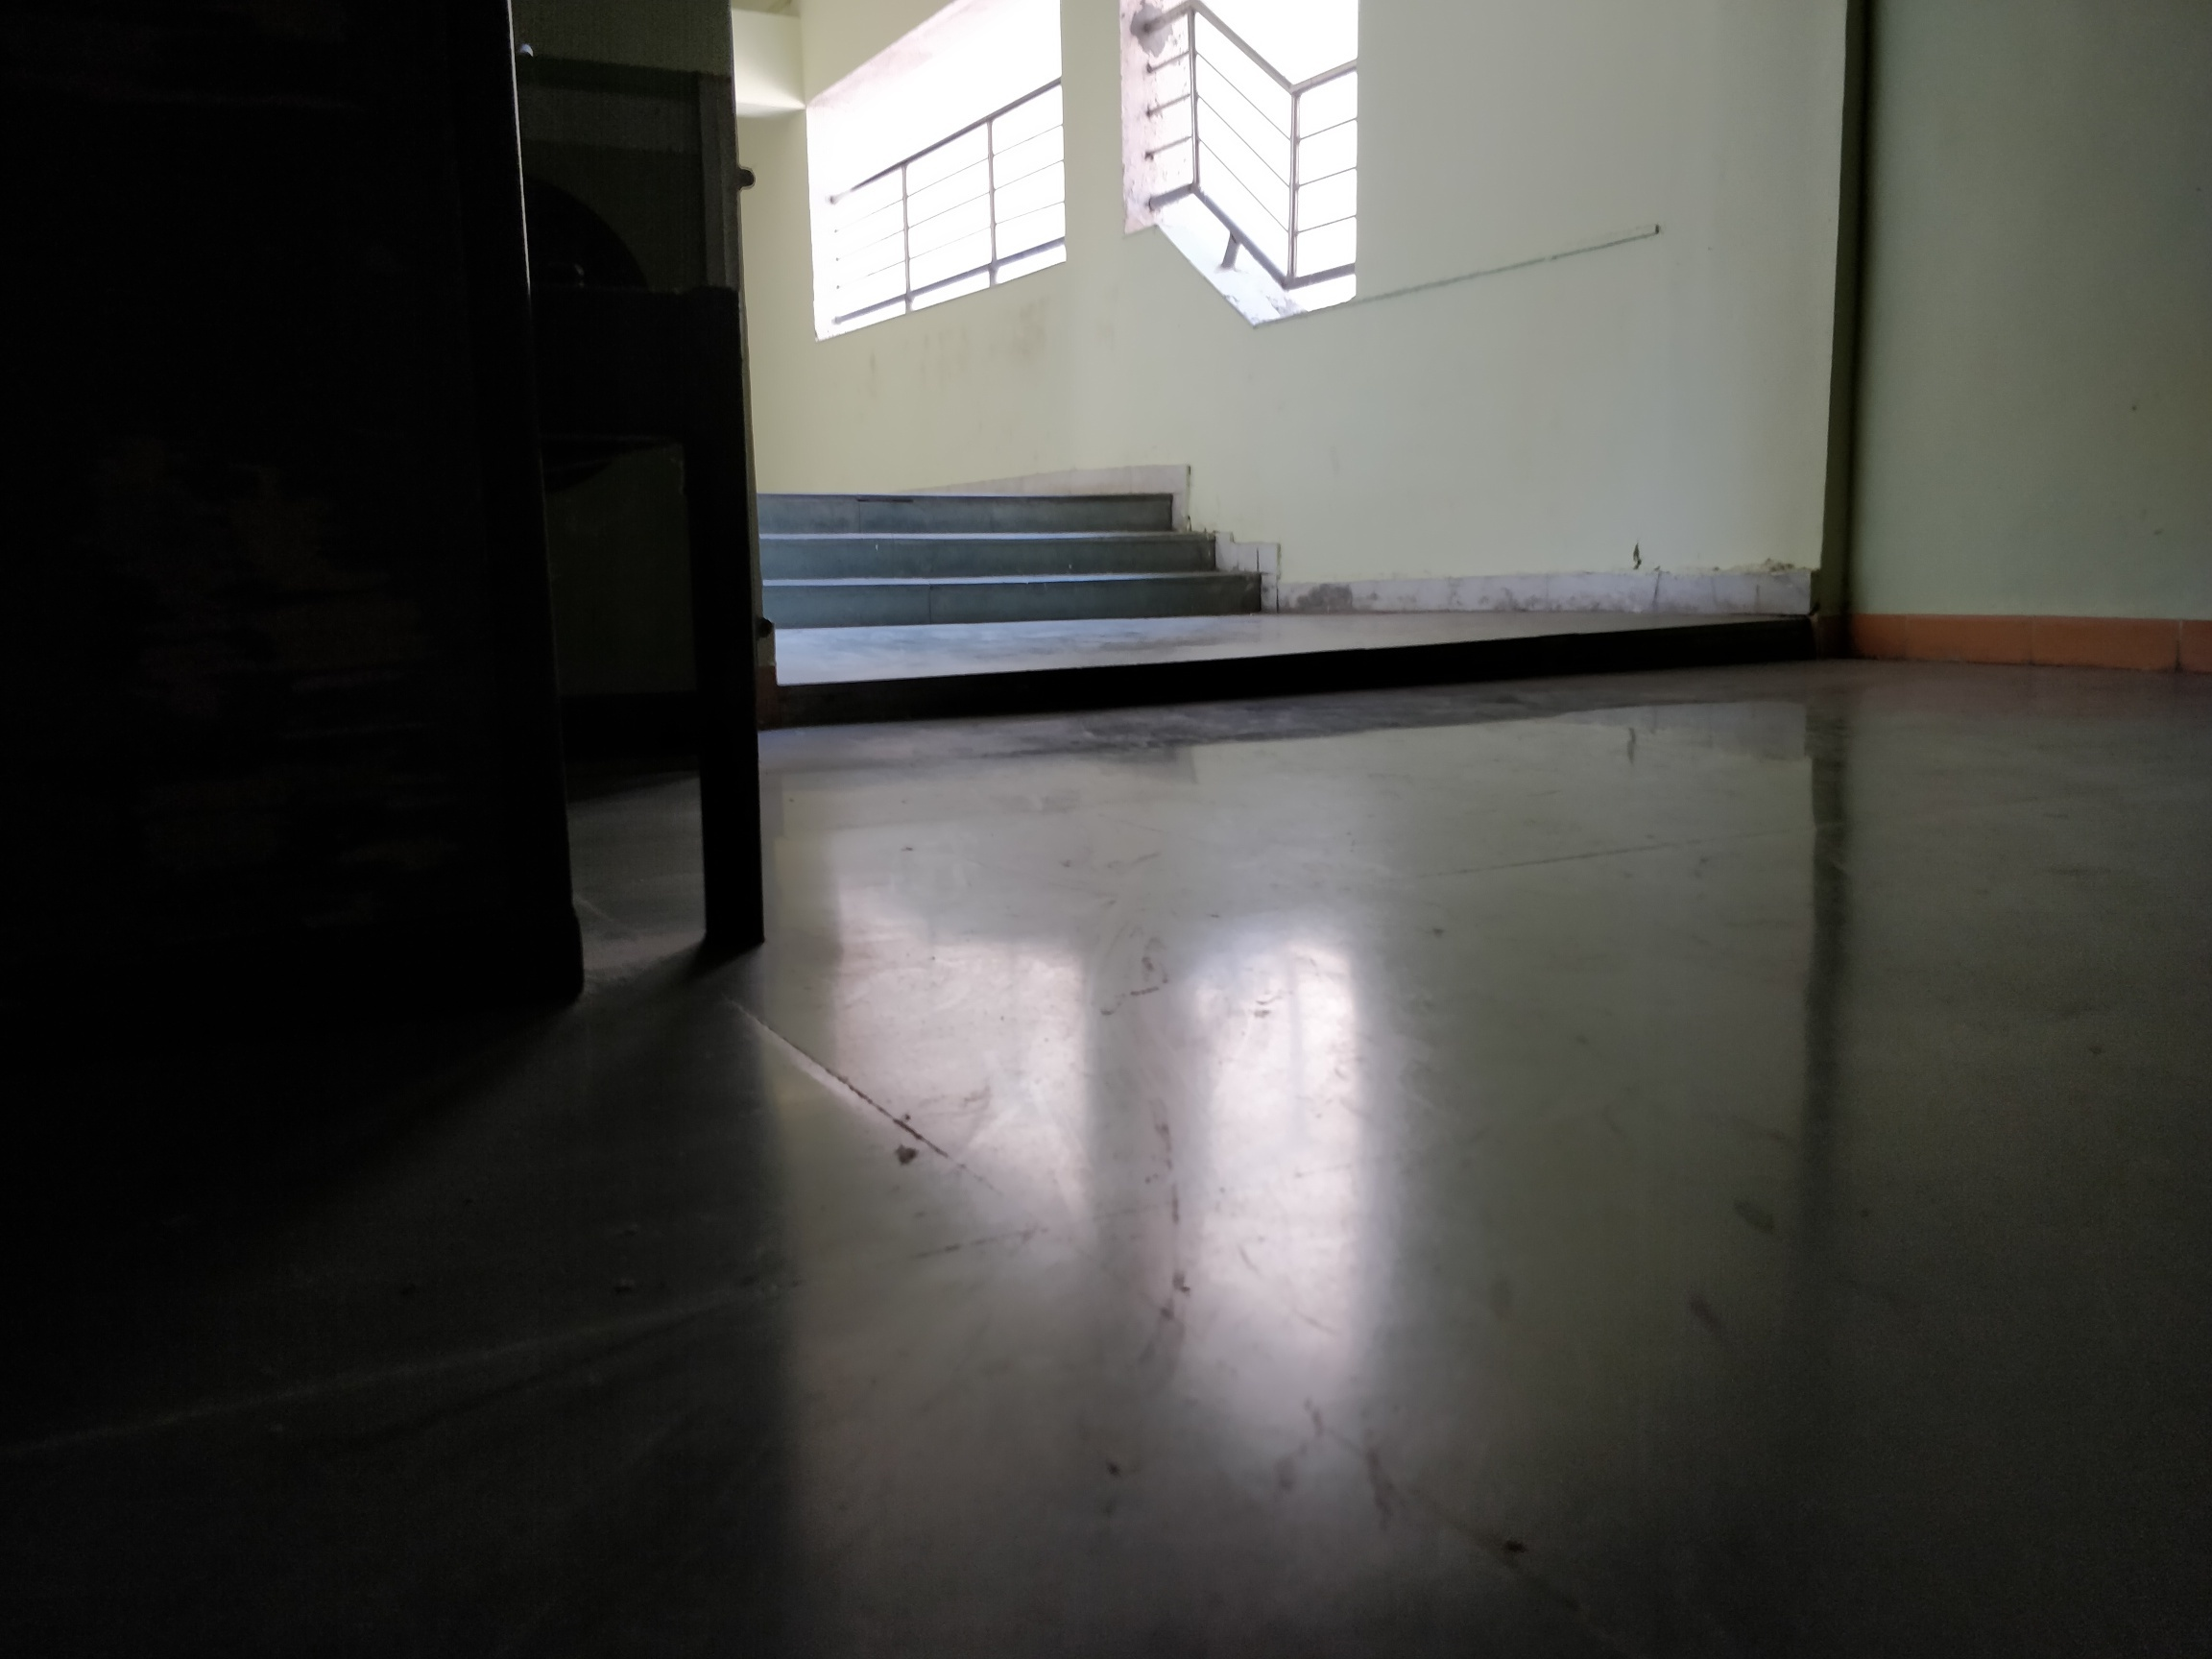stairs_up: (761, 486, 1266, 610)
